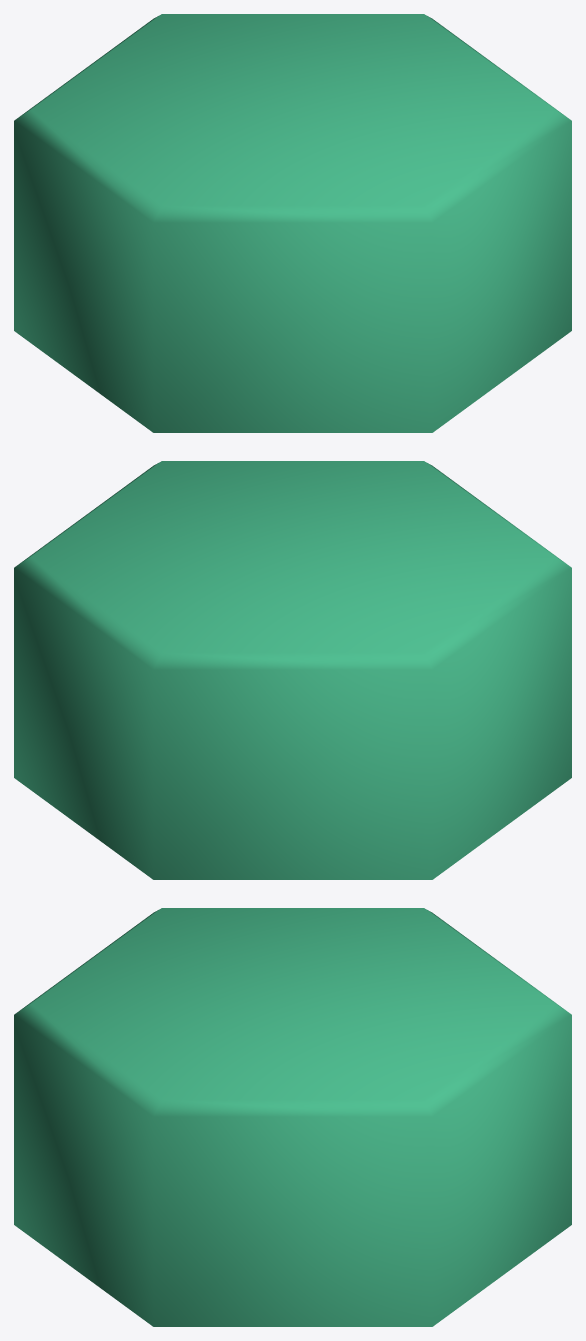
File: Hex.fbx
3 views of the same model, one above another, from view 1: azimuth 30°, elevation 25°; view 2: azimuth 150°, elevation 25°; view 3: azimuth 270°, elevation 25° (orthographic).
Parts seen in each view (by area): view 1: Hex; view 2: Hex; view 3: Hex.
Boxes of the visible parts, box(x1,y1,x2,y2) form: Hex: box(14, 14, 571, 432); Hex: box(14, 461, 571, 879); Hex: box(14, 908, 571, 1326).
Size of the model in its own units: 200 by 101 by 231.
